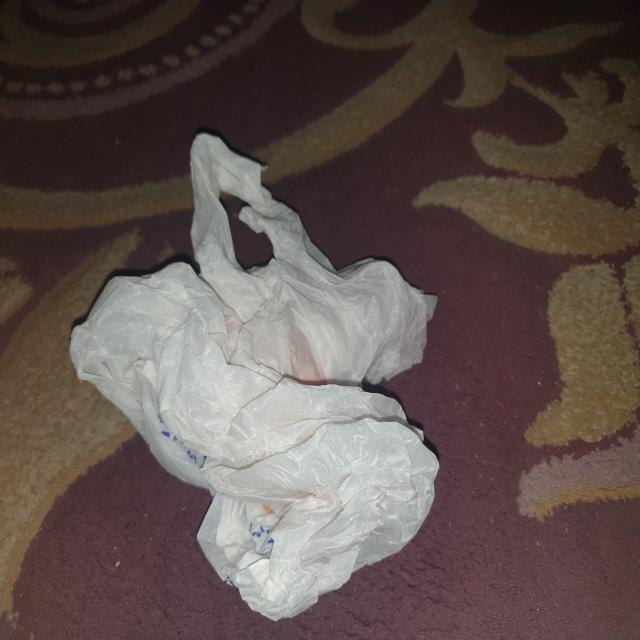Plastic_Bag: (58, 111, 444, 632)
